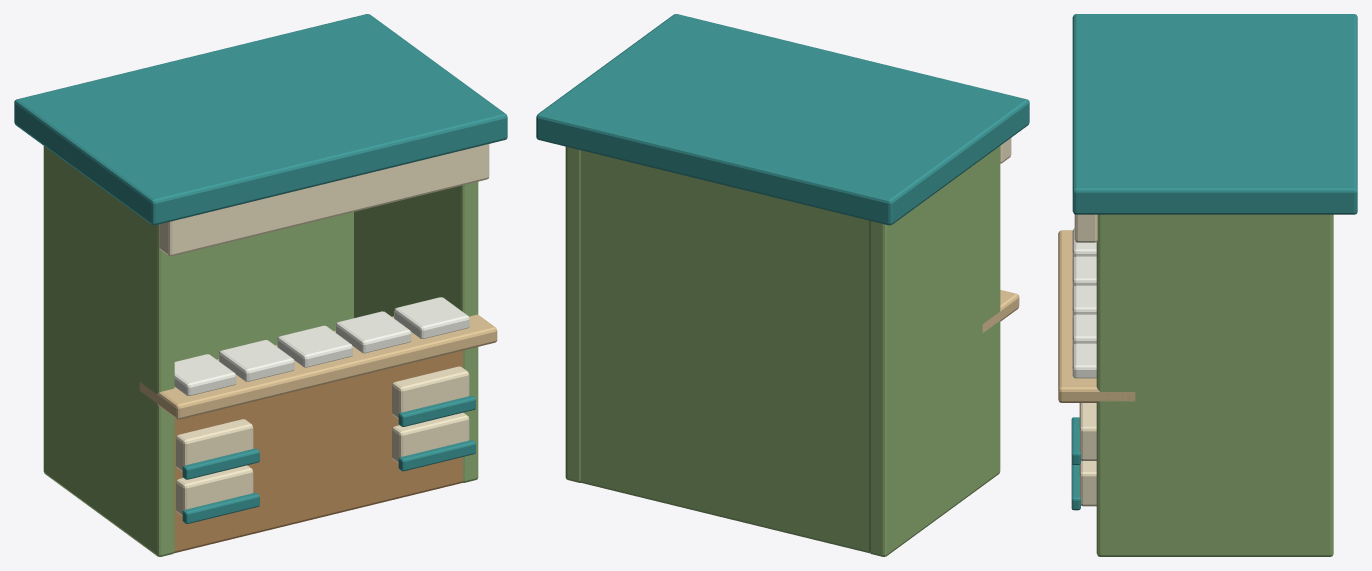
The model's file is S060_news_kiosk.glb.
The picture shows the model from 3 angles, left to right: view 1: azimuth 30°, elevation 25°; view 2: azimuth 150°, elevation 25°; view 3: azimuth 270°, elevation 25°; orthographic projection.
Parts seen in each view (by area): view 1: kiosk_roof, kiosk_side, kiosk_lower, kiosk_rear, kiosk_side.001, kiosk_fascia, kiosk_counter, magazine_rack.003, magazine_rack.001, magazine_rack, magazine_rack.002, newspaper_stack.003 (+8 smaller); view 2: kiosk_rear, kiosk_roof, kiosk_side, kiosk_side.001, kiosk_counter; view 3: kiosk_side.001, kiosk_roof, kiosk_counter, magazine_rack.003, newspaper_stack.004, magazine_rack.002, newspaper_stack.001, newspaper_stack.002, newspaper_stack.003, kiosk_fascia, rack_lip.003, rack_lip.002 (+1 smaller).
Part boxes in pixels (x1,y1,x2,y2): kiosk_roof: (14, 14, 507, 225); kiosk_side: (43, 146, 174, 556); kiosk_lower: (174, 350, 462, 553); kiosk_rear: (174, 212, 353, 361); kiosk_side.001: (354, 182, 478, 482); kiosk_fascia: (159, 144, 489, 256); kiosk_counter: (139, 314, 497, 419); magazine_rack.003: (392, 366, 469, 418); magazine_rack.001: (176, 419, 253, 471); magazine_rack: (176, 465, 253, 515); magazine_rack.002: (392, 412, 469, 463); newspaper_stack.003: (335, 311, 411, 353); kiosk_rear: (581, 150, 869, 553); kiosk_roof: (536, 14, 1029, 225); kiosk_side: (869, 146, 1000, 556); kiosk_side.001: (565, 146, 581, 482); kiosk_counter: (982, 290, 1019, 332); kiosk_side.001: (1096, 214, 1333, 556); kiosk_roof: (1072, 14, 1357, 214); kiosk_counter: (1058, 230, 1135, 402); magazine_rack.003: (1079, 403, 1096, 460); newspaper_stack.004: (1072, 343, 1096, 378); magazine_rack.002: (1079, 460, 1096, 506); newspaper_stack.001: (1072, 256, 1096, 288); newspaper_stack.002: (1072, 285, 1096, 317); newspaper_stack.003: (1072, 314, 1096, 346); kiosk_fascia: (1074, 214, 1097, 242); rack_lip.003: (1071, 417, 1080, 464); rack_lip.002: (1071, 464, 1080, 510).
Size of the model in its own units: 2.44 by 2.42 by 1.74.
